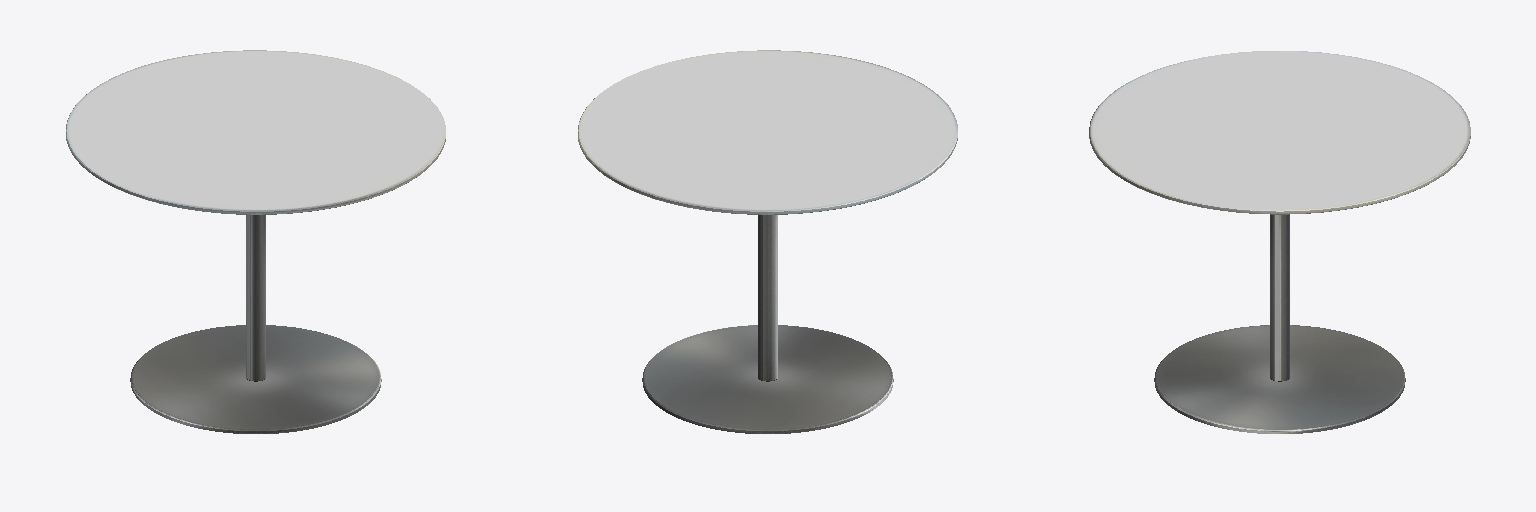
The picture shows the model from 3 angles: view 1: azimuth 30°, elevation 25°; view 2: azimuth 150°, elevation 25°; view 3: azimuth 270°, elevation 25°; orthographic projection.
Parts seen in each view (by area): view 1: Piano_100; view 2: Piano_100; view 3: Piano_100.
Boxes of the visible parts, box(x1,y1,x2,y2) form: Piano_100: box(66, 50, 445, 433); Piano_100: box(578, 50, 957, 433); Piano_100: box(1089, 51, 1470, 433).
Size of the model in its own units: 1 by 0.7285 by 1.01.
1 materials, 1 textured.